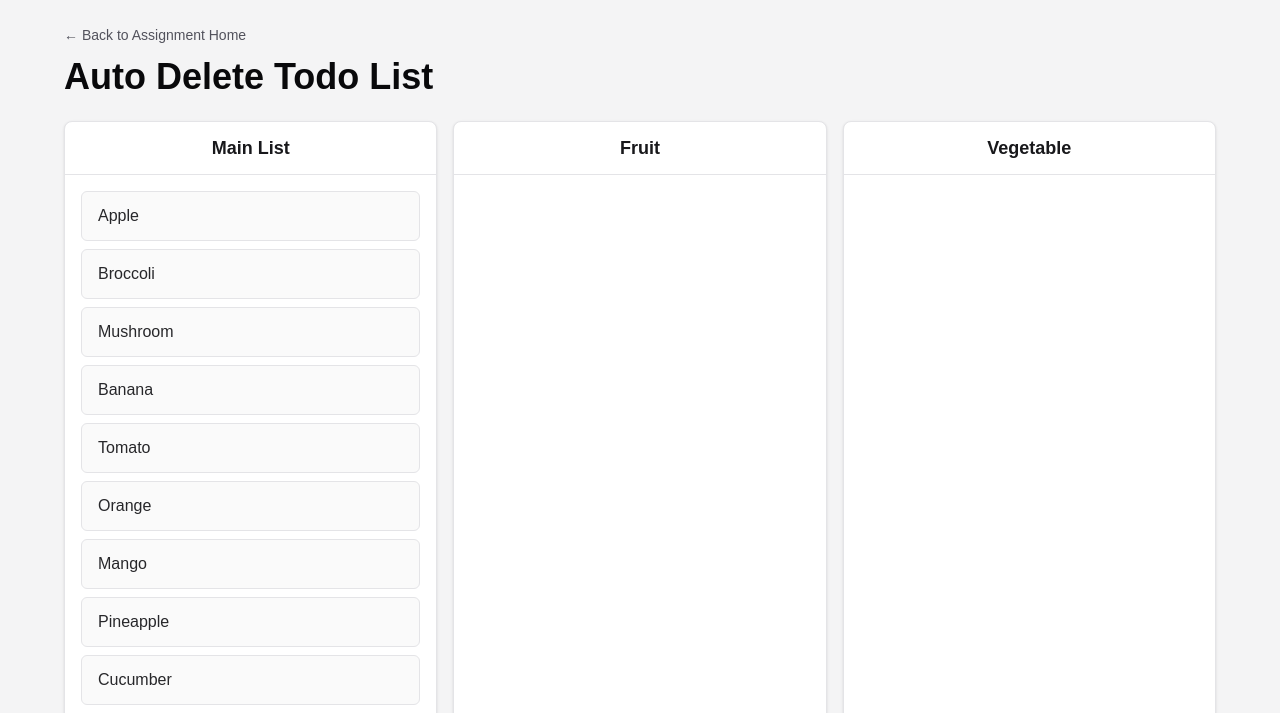
Scenario: AutoDeleteTodo › multiple moved items use independent timers
Click the button "Apple" at x=118, y=216, box [81,191,420,241]
Wait 2000 ms
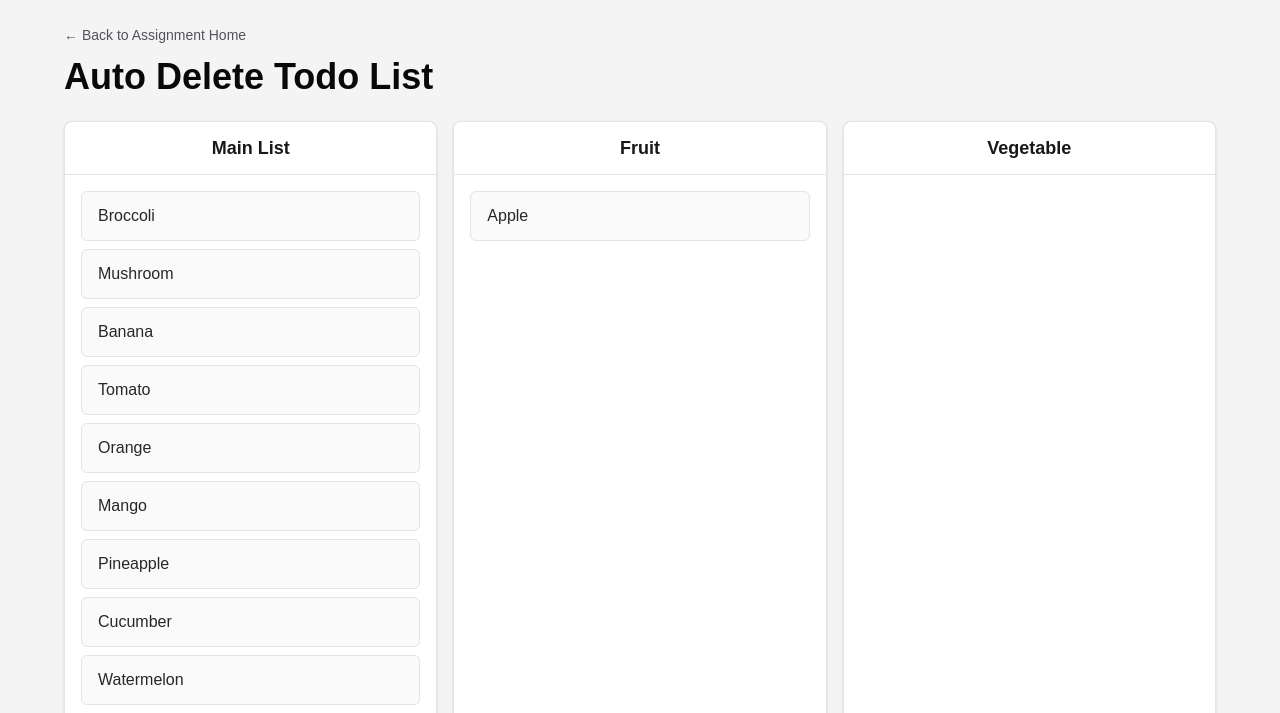
Click the button "Broccoli" at x=126, y=216, box [81,191,420,241]
Wait 5000 ms
(page scrolled)
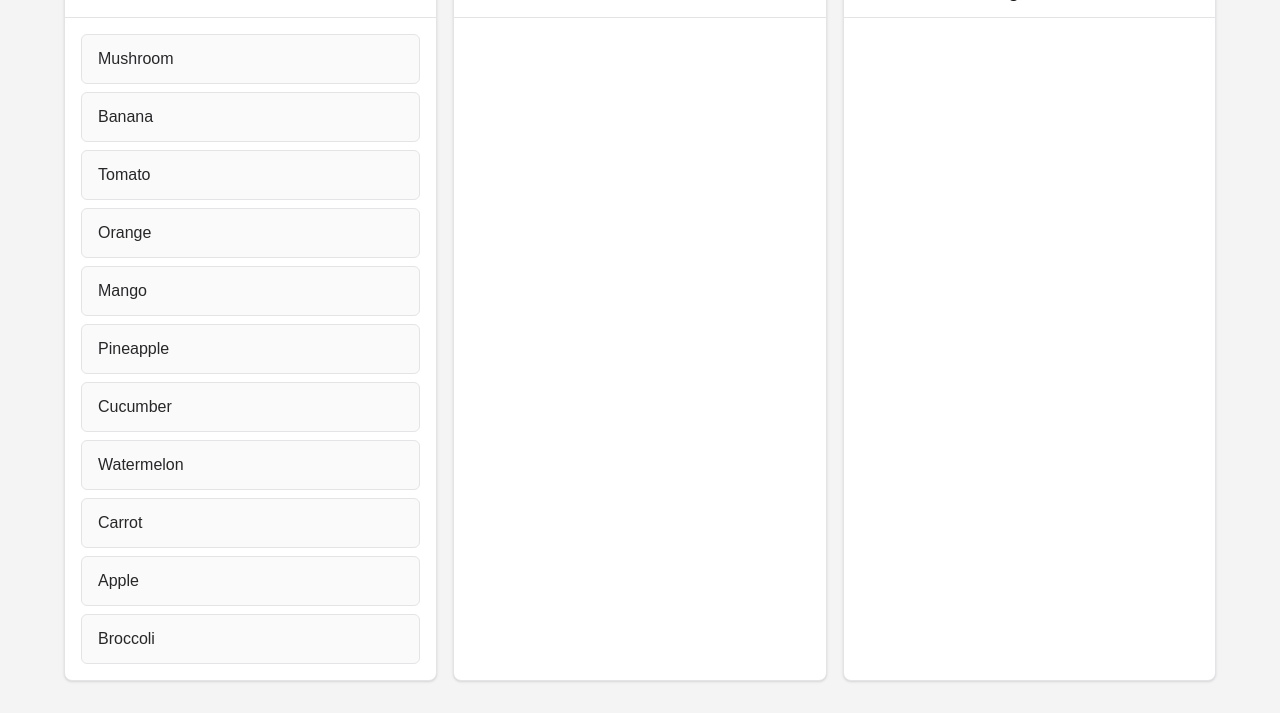
Check: the button "Apple" is shown, box [81,556,420,606]
